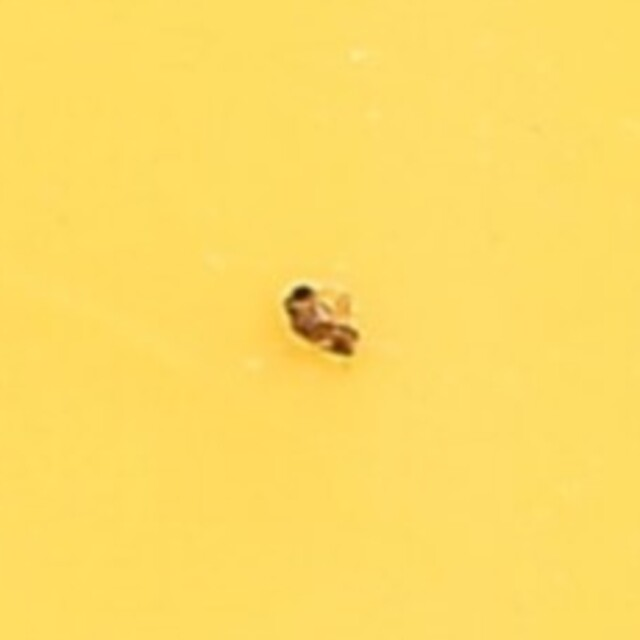Hymenoptera: (278, 281, 362, 359)
